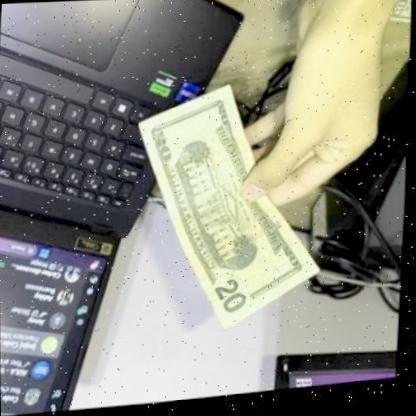twenty-back: (122, 74, 334, 344)
